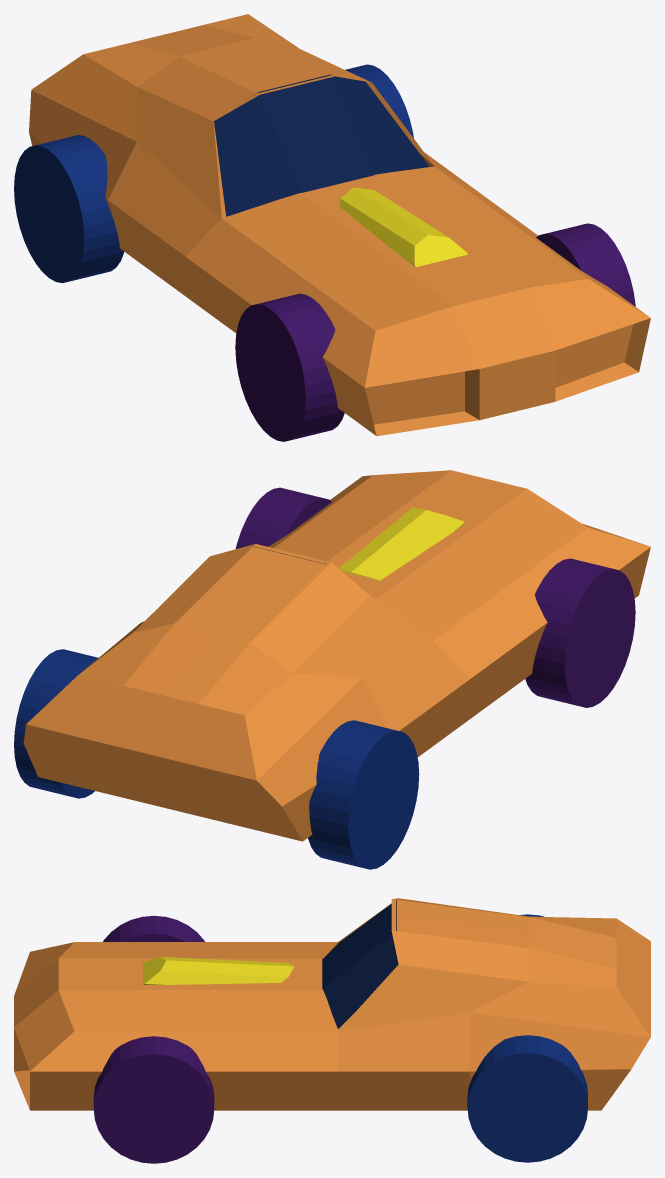
The model's file is basic_car_along_y-axis-2.glb.
3 renders of one model, top to bottom at view 1: azimuth 30°, elevation 25°; view 2: azimuth 150°, elevation 25°; view 3: azimuth 270°, elevation 25°, orthographic. The views are drawn at different scales.
Parts seen in each view (by area): view 1: Cube, Winsdhield, Cylinder.002, Cylinder.001, Cylinder.004, Cylinder, Cylinder.003; view 2: Cube, Cylinder.002, Cylinder.001, Cylinder.003, Cylinder.004, Cylinder; view 3: Cube, Cylinder, Cylinder.003, Winsdhield, Cylinder.004, Cylinder.001.
Boxes of the visible parts, x1,y1,x2,y2 form: Cube: (29, 14, 650, 436); Winsdhield: (214, 74, 429, 216); Cylinder.002: (14, 135, 124, 283); Cylinder.001: (235, 293, 344, 441); Cylinder.004: (340, 187, 467, 266); Cylinder: (536, 223, 635, 306); Cylinder.003: (345, 64, 413, 137); Cube: (23, 470, 650, 841); Cylinder.002: (308, 720, 419, 869); Cylinder.001: (525, 558, 635, 707); Cylinder.003: (14, 649, 98, 798); Cylinder.004: (339, 507, 465, 580); Cylinder: (235, 487, 331, 548); Cube: (14, 898, 650, 1110); Cylinder: (93, 1036, 214, 1163); Cylinder.003: (467, 1035, 587, 1162); Winsdhield: (322, 900, 398, 1028); Cylinder.004: (143, 956, 294, 984); Cylinder.001: (103, 915, 204, 941).
Size of the model in its own units: 3.14 by 1.88 by 6.04.
